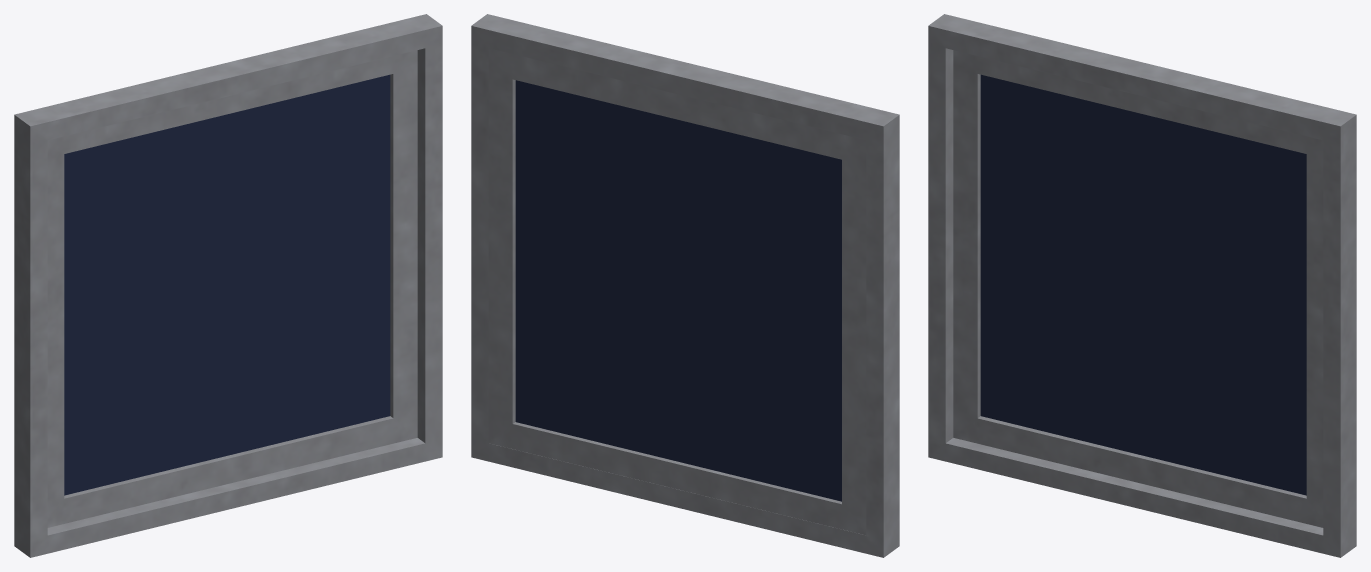
Rendered from sb_obj_ModernCity032_window_b3.fbx.
3 views of the same model, side by side, from view 1: azimuth 30°, elevation 25°; view 2: azimuth 150°, elevation 25°; view 3: azimuth 330°, elevation 25° (orthographic).
Parts seen in each view (by area): view 1: sb_obj_ModernCity028_window_a3; view 2: sb_obj_ModernCity028_window_a3; view 3: sb_obj_ModernCity028_window_a3.
Part boxes in pixels (bbox=[...]): sb_obj_ModernCity028_window_a3: bbox=[14, 14, 442, 557]; sb_obj_ModernCity028_window_a3: bbox=[471, 14, 899, 557]; sb_obj_ModernCity028_window_a3: bbox=[928, 14, 1356, 557].
Bounding box in the file's own units: 1 × 1 × 0.0677.
